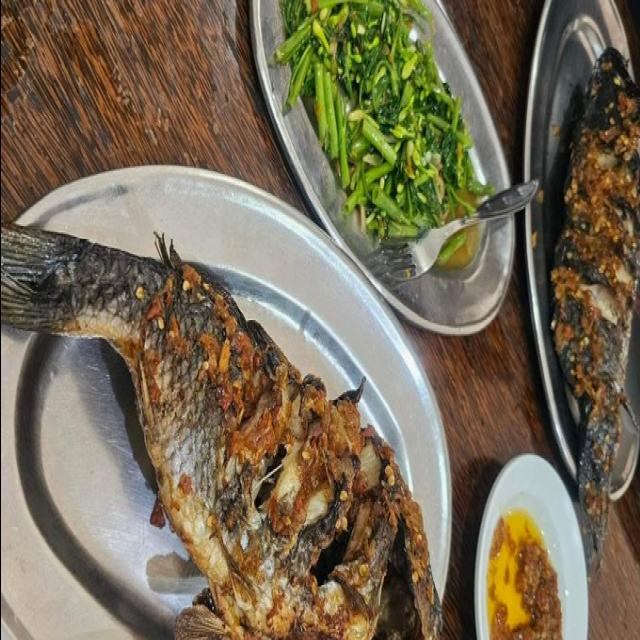ikan goreng: (0, 224, 440, 640)
